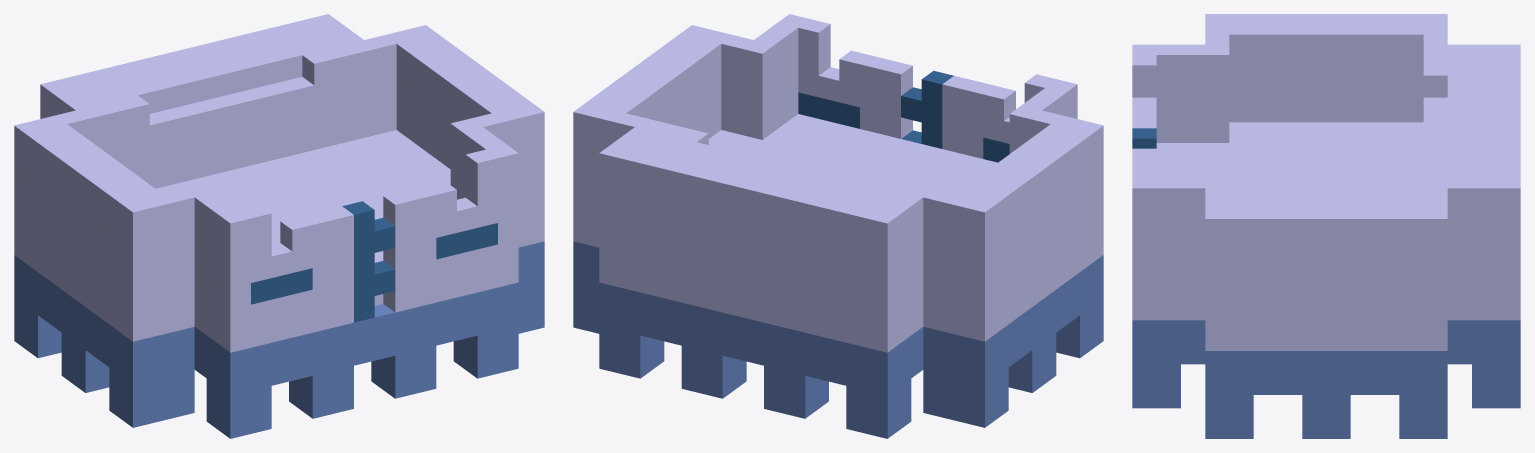
3 renders of one model, left to right at view 1: azimuth 30°, elevation 25°; view 2: azimuth 150°, elevation 25°; view 3: azimuth 270°, elevation 25°, orthographic. The views are drawn at different scales.
Visible parts, largest first — view 1: 28; view 2: 28; view 3: 28.
Part boxes in pixels (box(x1,y1,x2,y2)): 28: box(14, 14, 544, 438); 28: box(573, 14, 1103, 438); 28: box(1132, 14, 1520, 438).
Size of the model in its own units: 200 by 100 by 160.
1 material, 1 textured.
